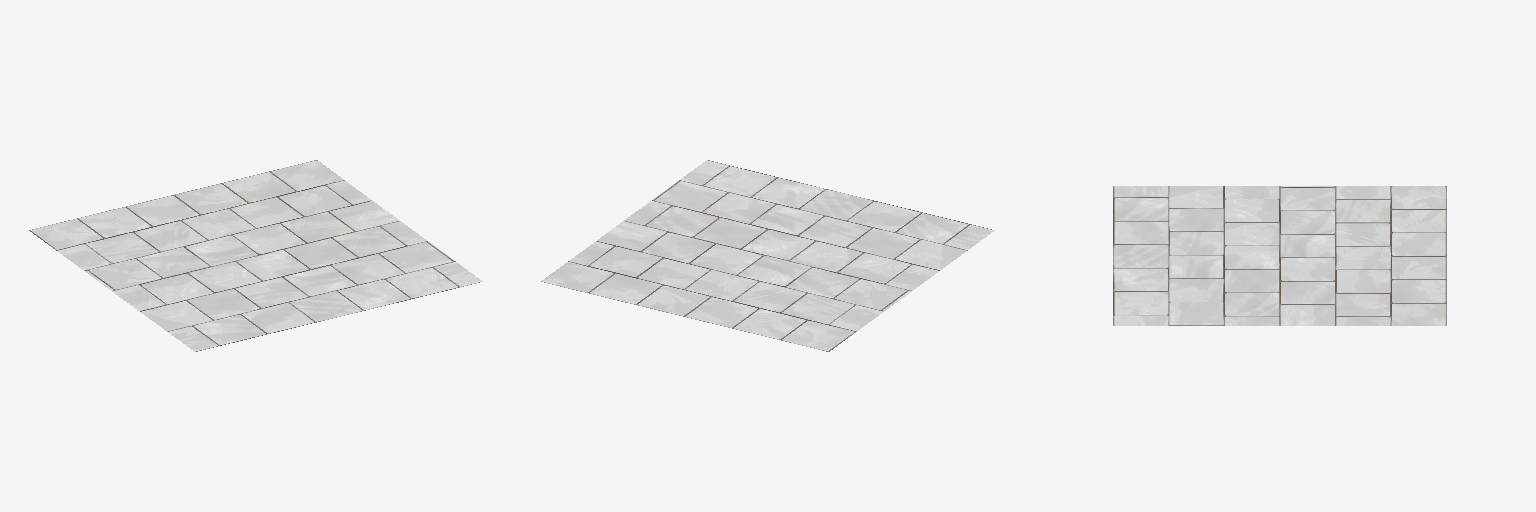
3 views of the same model, side by side, from view 1: azimuth 30°, elevation 25°; view 2: azimuth 150°, elevation 25°; view 3: azimuth 270°, elevation 25° (orthographic).
Visible parts, largest first — view 1: Plane; view 2: Plane; view 3: Plane.
Part boxes in pixels (left/top/right/bottom): Plane: left=29, top=160, right=482, bottom=351; Plane: left=541, top=160, right=994, bottom=351; Plane: left=1113, top=186, right=1446, bottom=325.
Bounding box in the file's own units: 10 × 0 × 10.
1 materials, 1 textured.